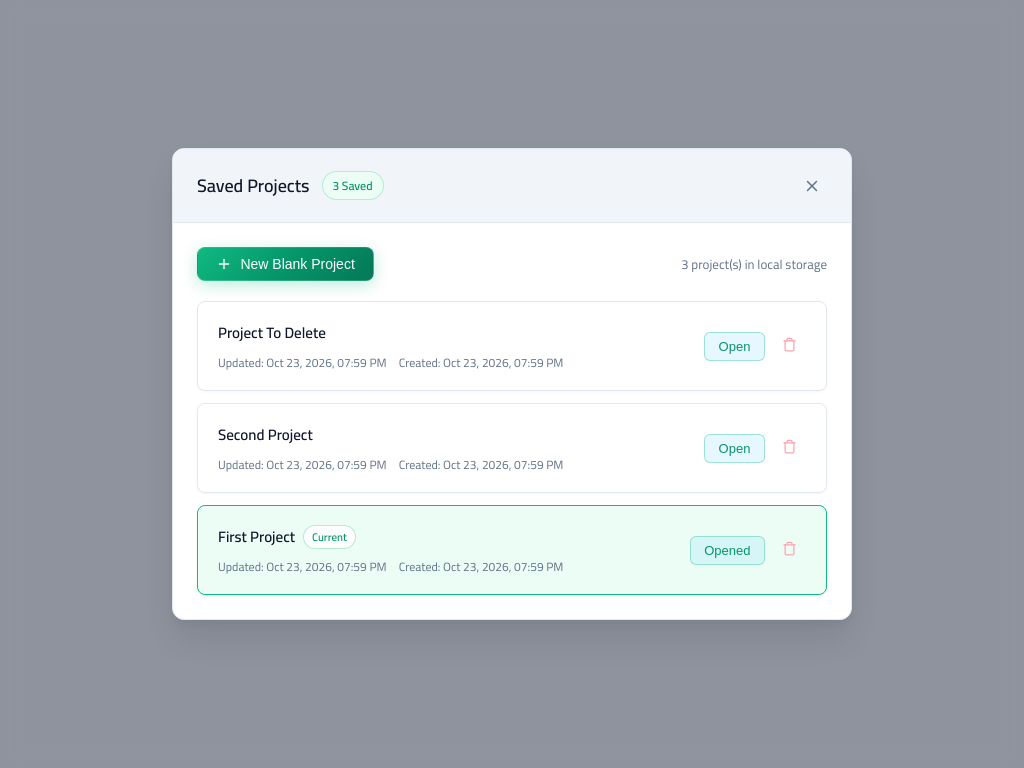
Test: ProjectListModal Component (T-0406) › deletes project with confirmation
Click the button with test id "btn-delete-project-proj-3". click: (790, 346)
box: [773,330,806,362]
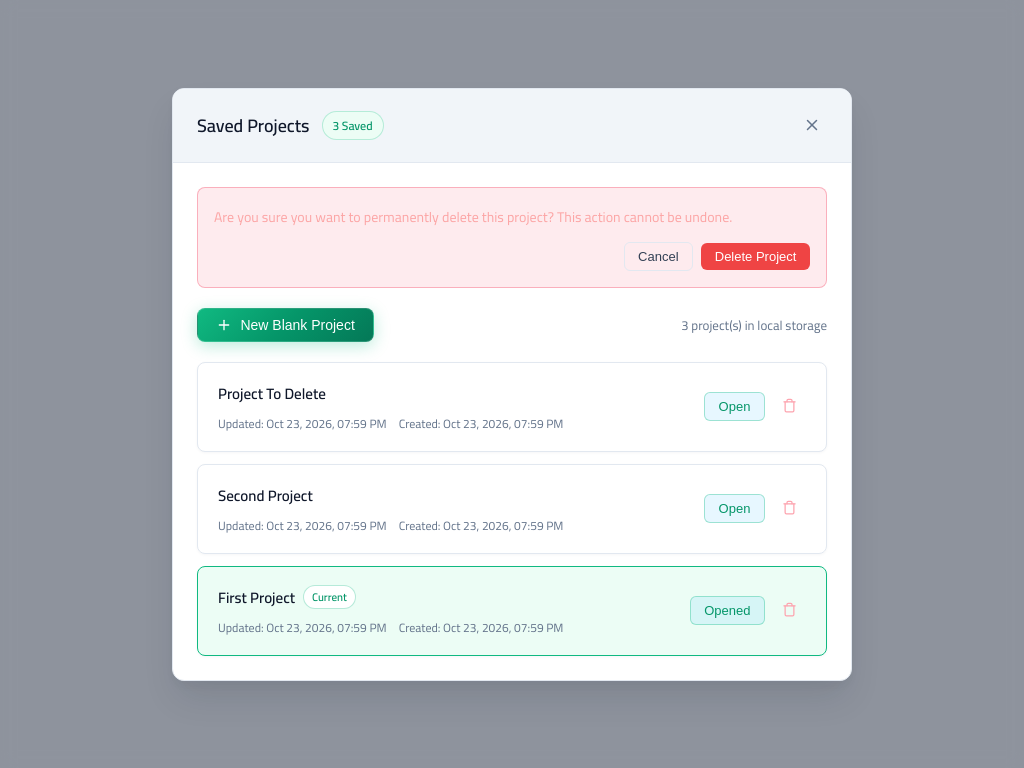
Result: the button with test id "btn-confirm-delete" is shown
Click the button with test id "btn-confirm-delete". click: (756, 256)
box: [701,242,810,270]
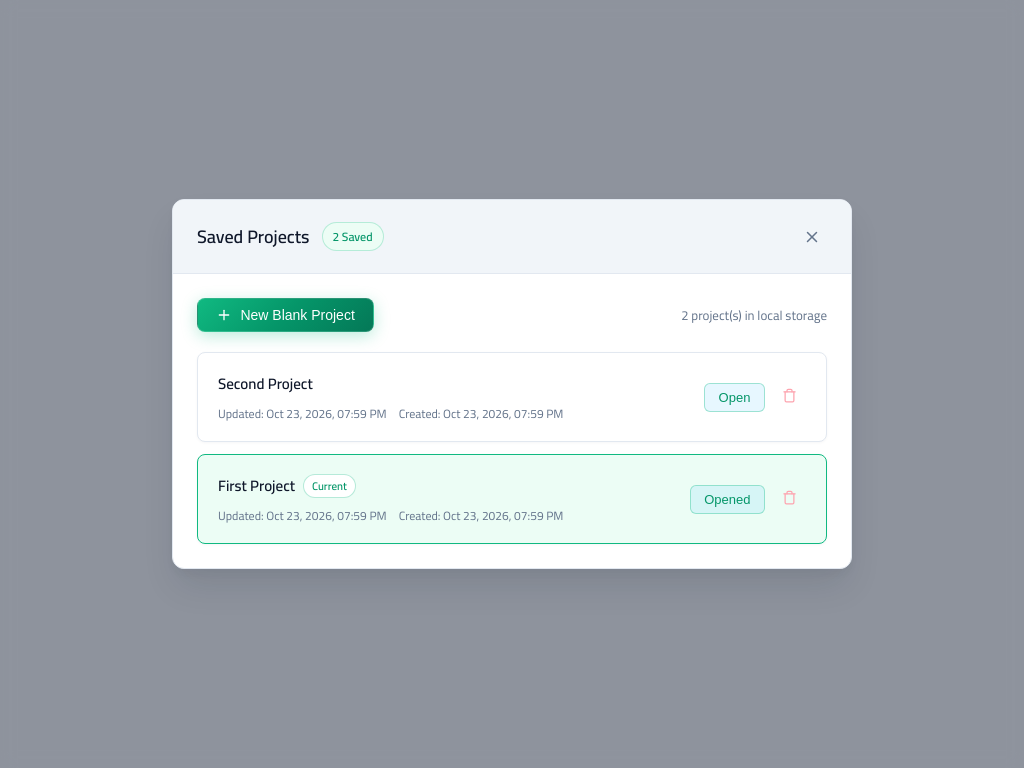
Result: the text "Project To Delete" is gone
